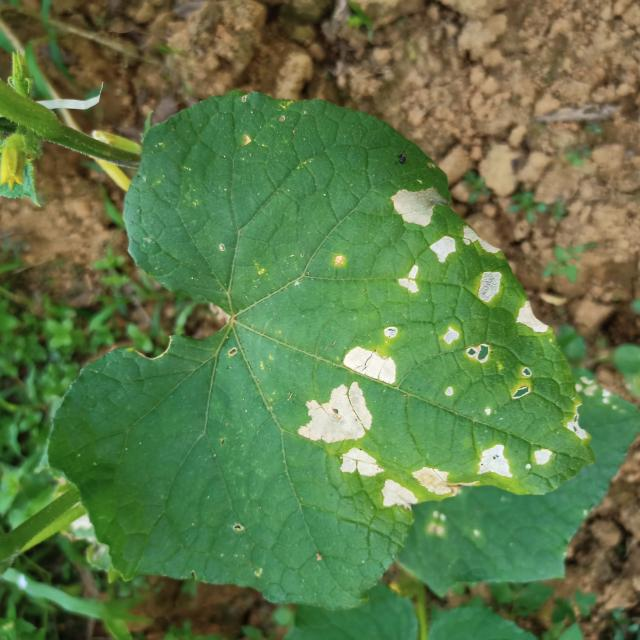disease_cucumber: (298, 346, 396, 442), (386, 188, 457, 293), (462, 222, 505, 306), (378, 468, 452, 510), (476, 444, 554, 479), (442, 325, 489, 364), (339, 446, 384, 476), (518, 300, 546, 339)
